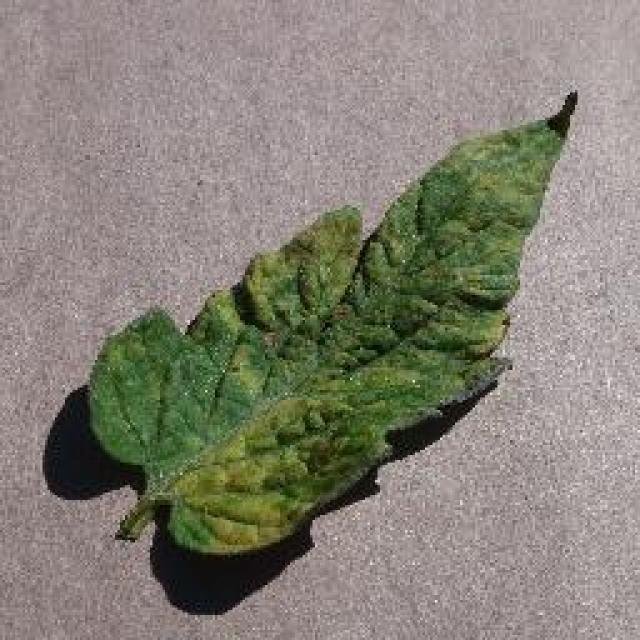Tomato mold leaf: (85, 90, 577, 562)
